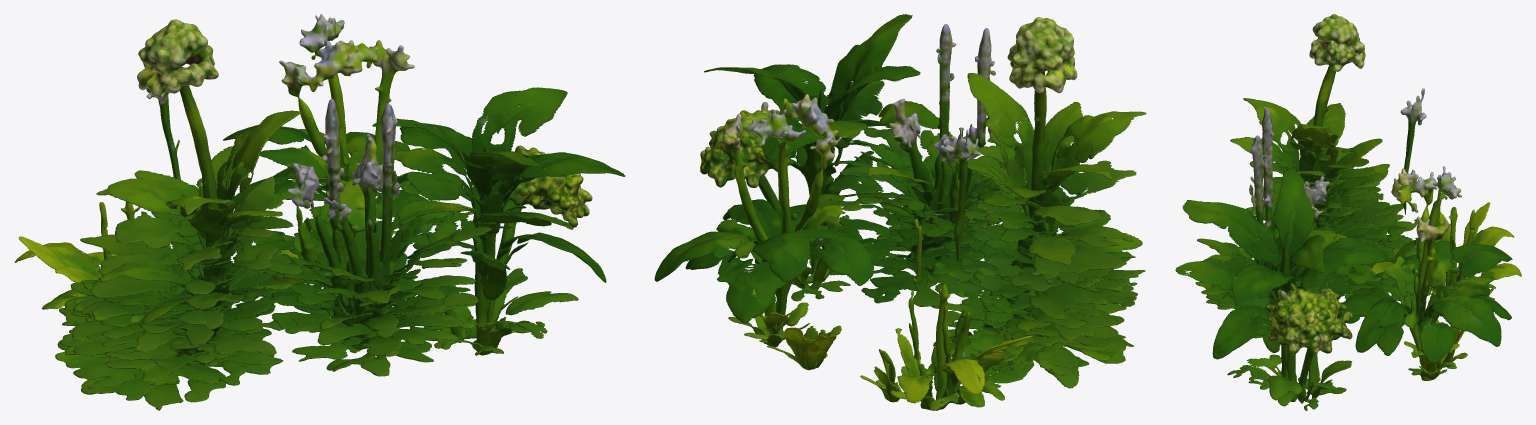
File: herb_plants.glb
3 views of the same model, side by side, from view 1: azimuth 30°, elevation 25°; view 2: azimuth 150°, elevation 25°; view 3: azimuth 270°, elevation 25° (orthographic). The views are drawn at different scales.
Visible parts, largest first — view 1: tripo_node_a434353d-f811-4d54-a501-753d5f0ccef1; view 2: tripo_node_a434353d-f811-4d54-a501-753d5f0ccef1; view 3: tripo_node_a434353d-f811-4d54-a501-753d5f0ccef1.
Boxes of the visible parts, x1,y1,x2,y2 form: tripo_node_a434353d-f811-4d54-a501-753d5f0ccef1: (14,14,625,410); tripo_node_a434353d-f811-4d54-a501-753d5f0ccef1: (654,14,1146,410); tripo_node_a434353d-f811-4d54-a501-753d5f0ccef1: (1175,14,1521,410).
Bounding box in the file's own units: 0.9998 × 0.7473 × 0.8259.
1 material, 1 textured.
